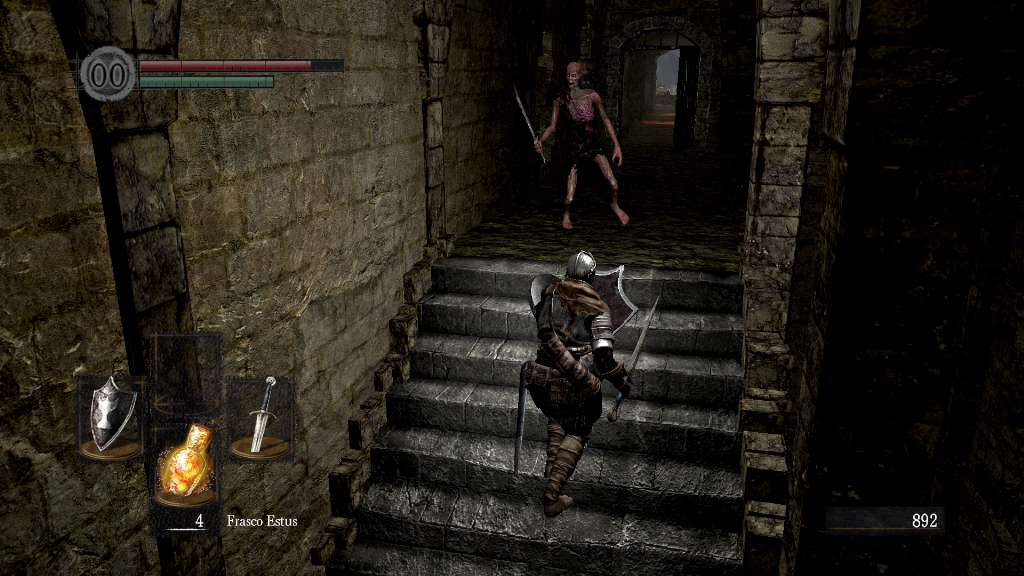health: (138, 58, 343, 71)
hollow: (532, 62, 630, 229)
humanity: (80, 45, 136, 102)
player: (513, 249, 661, 519)
souls: (825, 506, 945, 536)
stamina: (138, 74, 274, 88)
